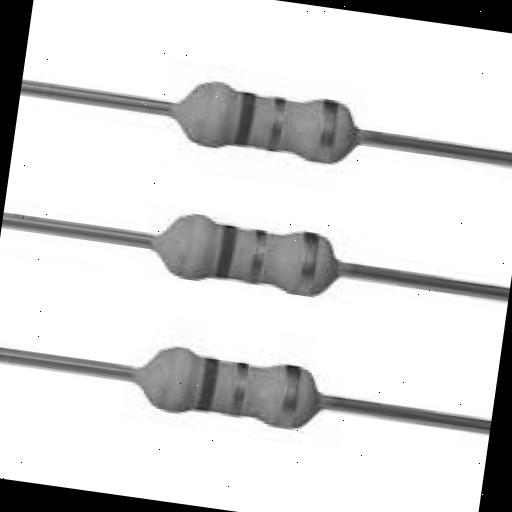RESISTOR: (80, 278, 364, 483), (107, 182, 383, 349), (142, 68, 402, 229)
